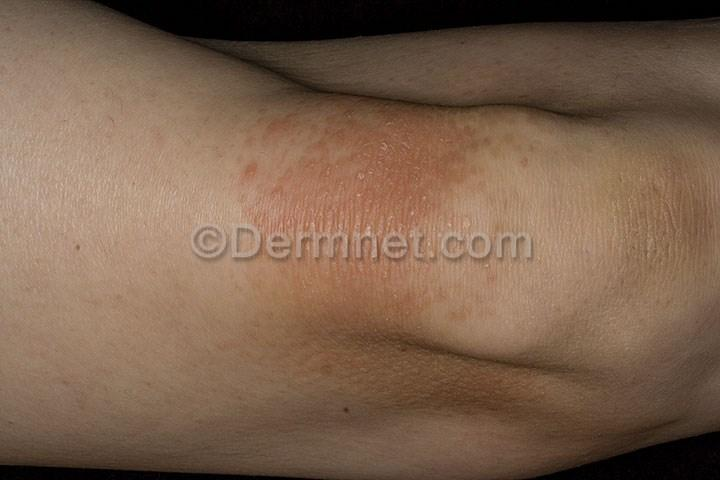Eczema: (222, 90, 482, 232), (237, 262, 458, 423)
